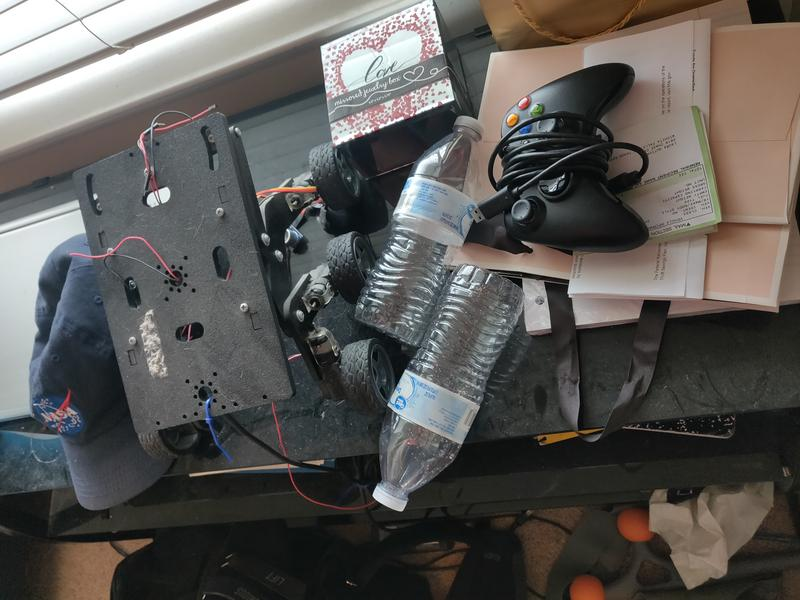bottle: (371, 264, 524, 513), (354, 114, 485, 345)
